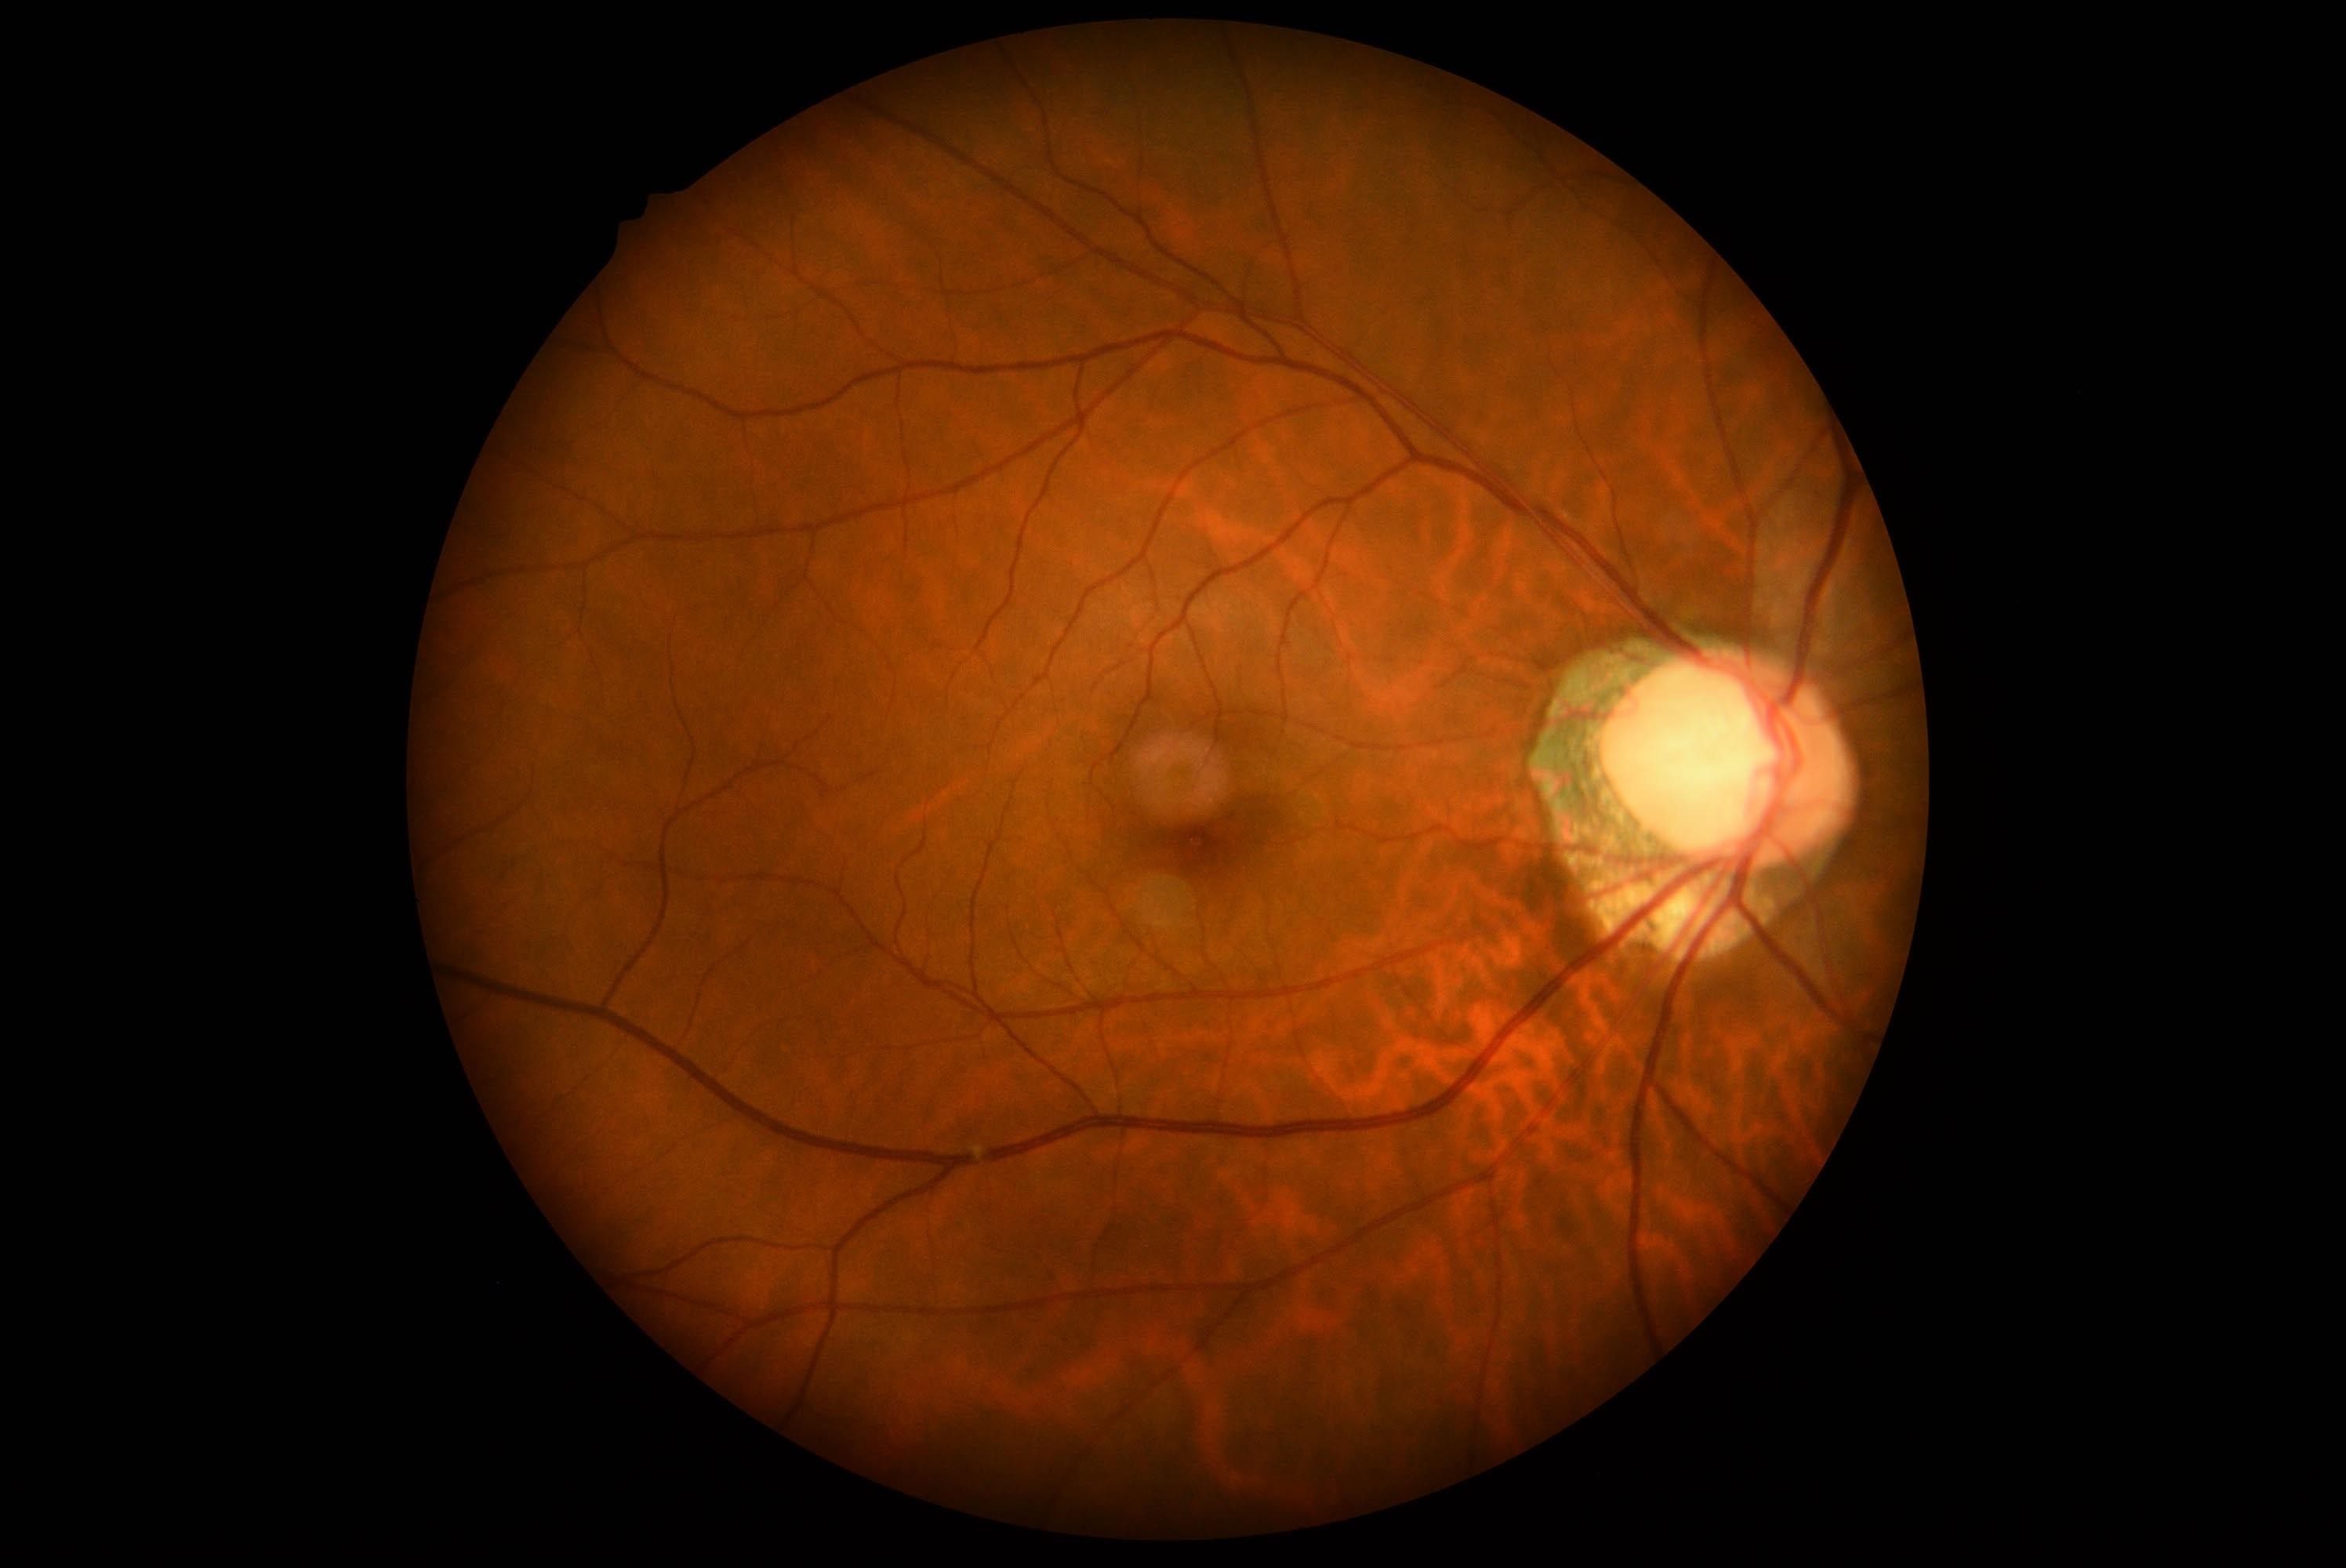Fovea: (1120, 766, 1268, 915)
